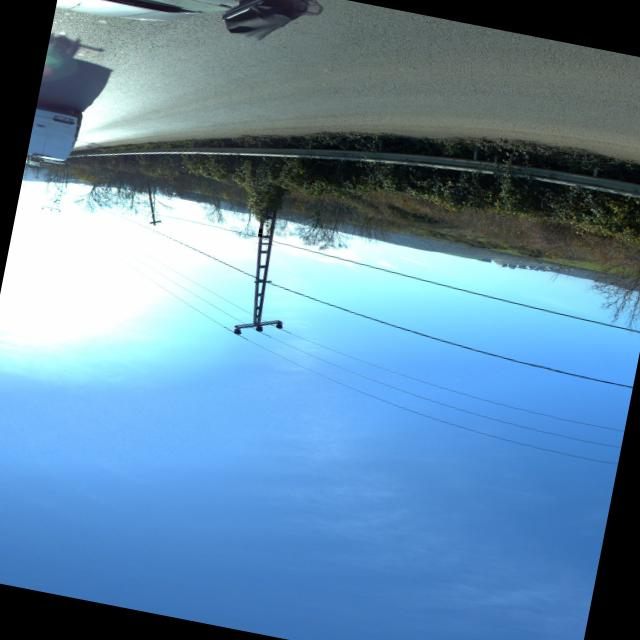Utility Pole Information Plate: (258, 227, 262, 232), (257, 232, 261, 236)
